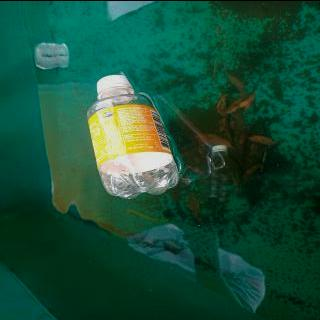bottle: (85, 70, 182, 201)
